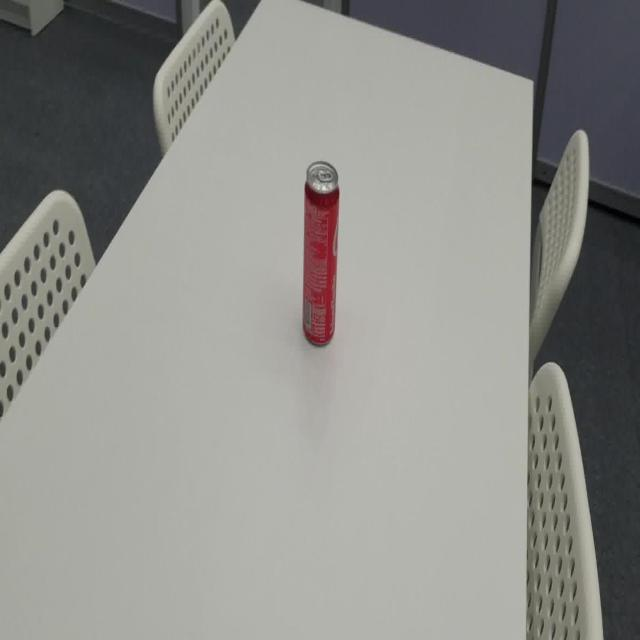coca-cola: (300, 160, 340, 350)
